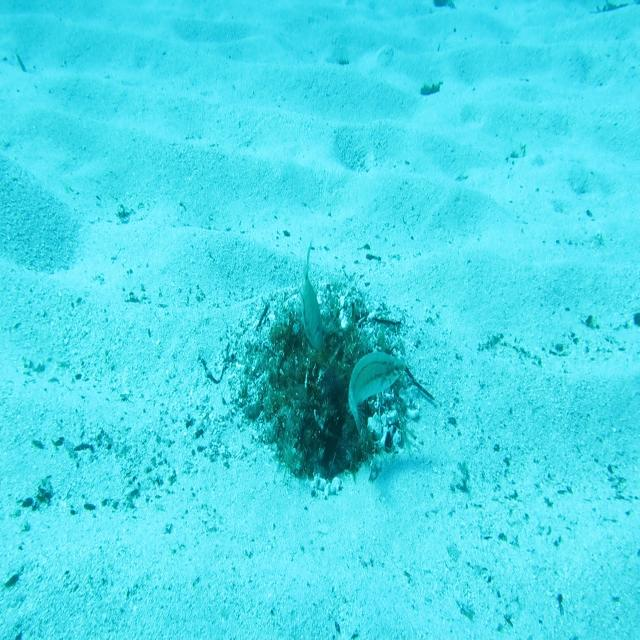NIP_CORE: (294, 235, 328, 358)
core_nest: (298, 330, 341, 383)
female: (346, 349, 408, 444)
nest: (219, 252, 434, 506)
vegetation: (418, 80, 444, 98)
